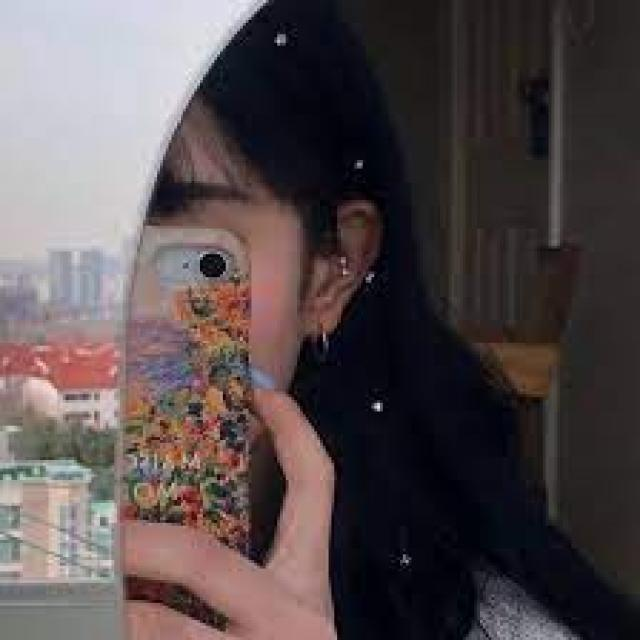Phone: (123, 221, 258, 612)
